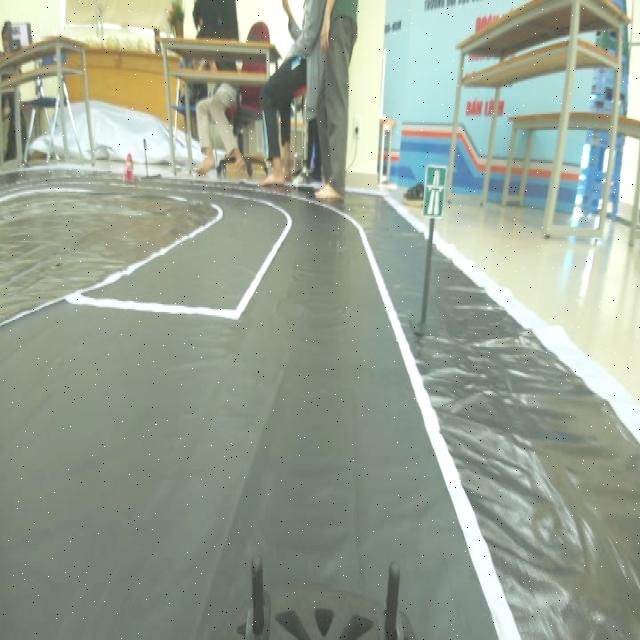highway_entry: (424, 162, 447, 222)
